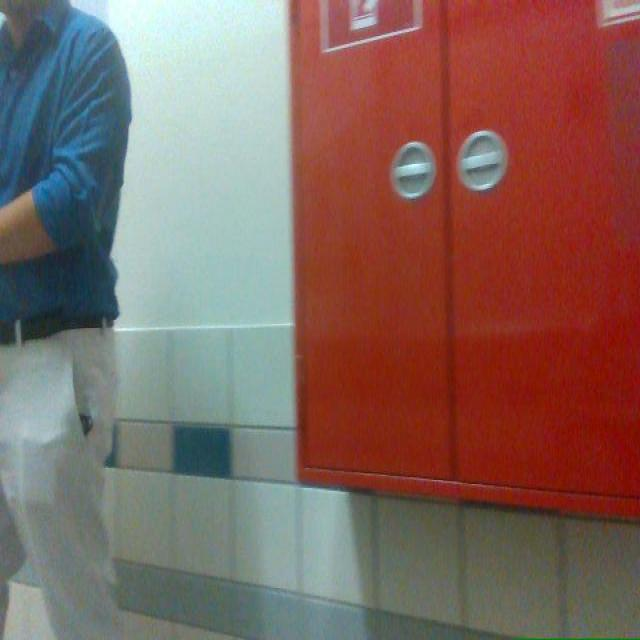humans: (0, 0, 131, 639)
